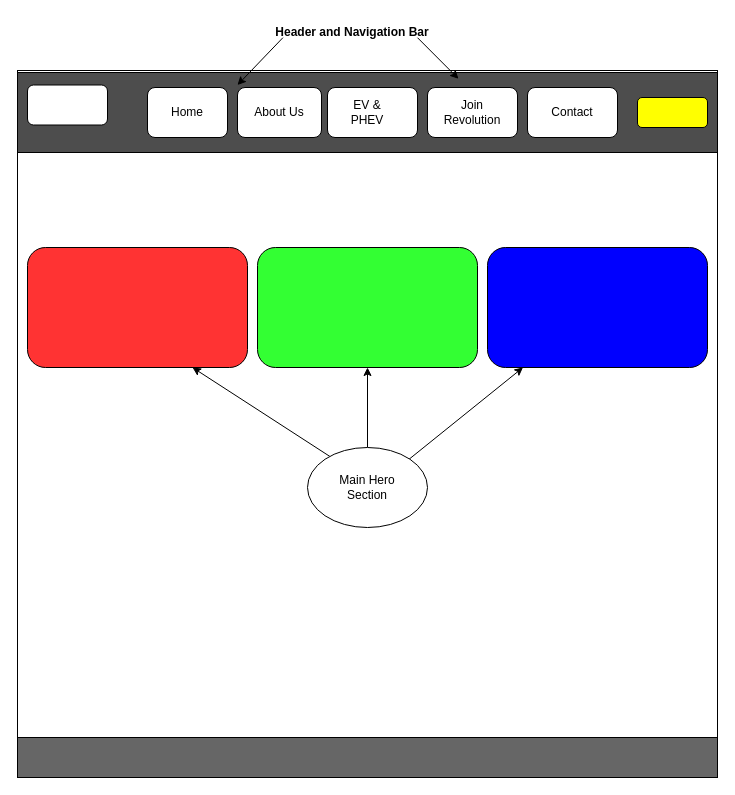
Some shapes in this 735 by 795 pixel diagram are drawn without their labels. Each missing label, with the box of its shape:
Footer: (16, 736, 718, 778)
Login: (636, 96, 708, 128)
Logo: (26, 84, 108, 125)
